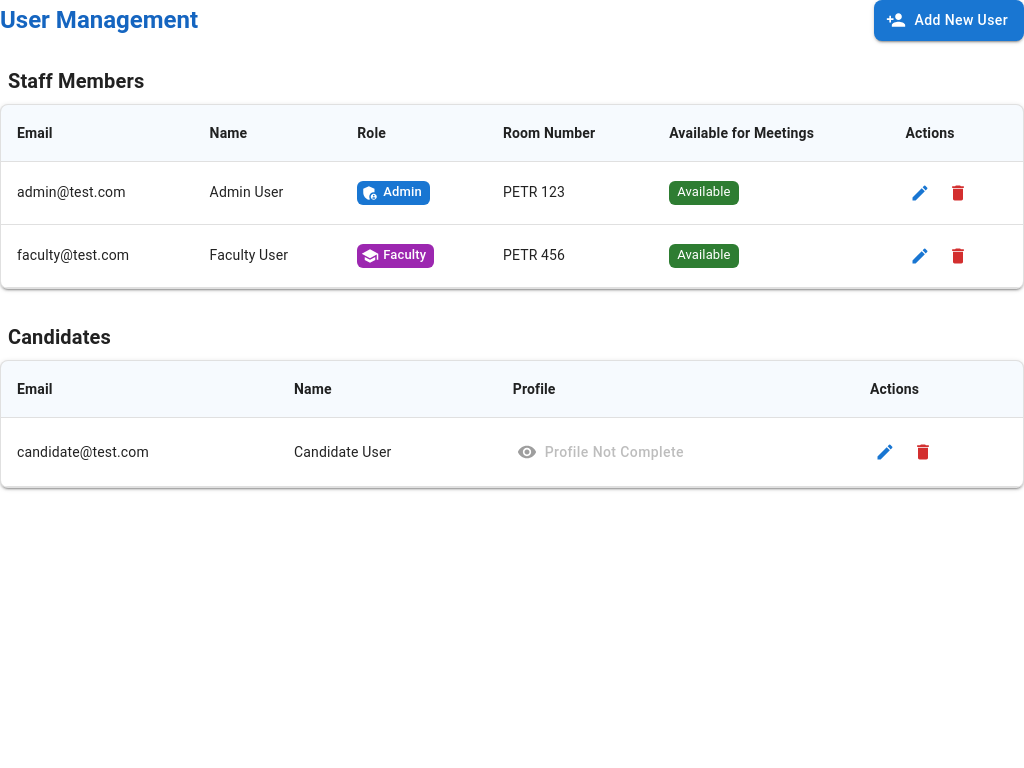
Test: UserManagement › opens add user dialog
The image size is (1024, 768).
Click the button "Add New User". click: (949, 20)
box: x1=874 y1=0 x2=1023 y2=40
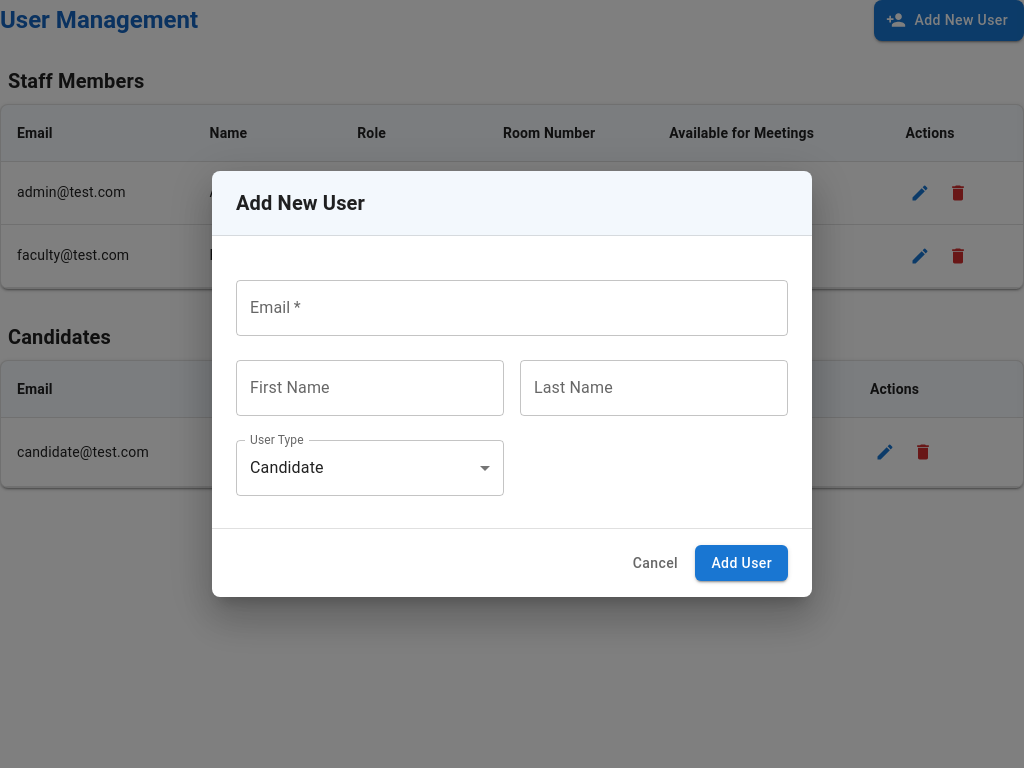
Result: the dialog shows "Add New User" at x1=236 y1=191 x2=365 y2=215
Result: the field labelled "Email *" is shown at x1=236 y1=280 x2=788 y2=336
Result: the field labelled "First Name" is shown at x1=236 y1=360 x2=504 y2=416
